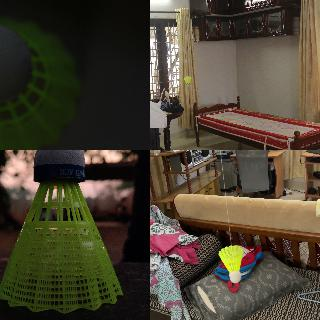shuttlecock: (0, 150, 123, 314), (0, 17, 81, 149), (218, 245, 242, 282), (183, 76, 190, 86)
